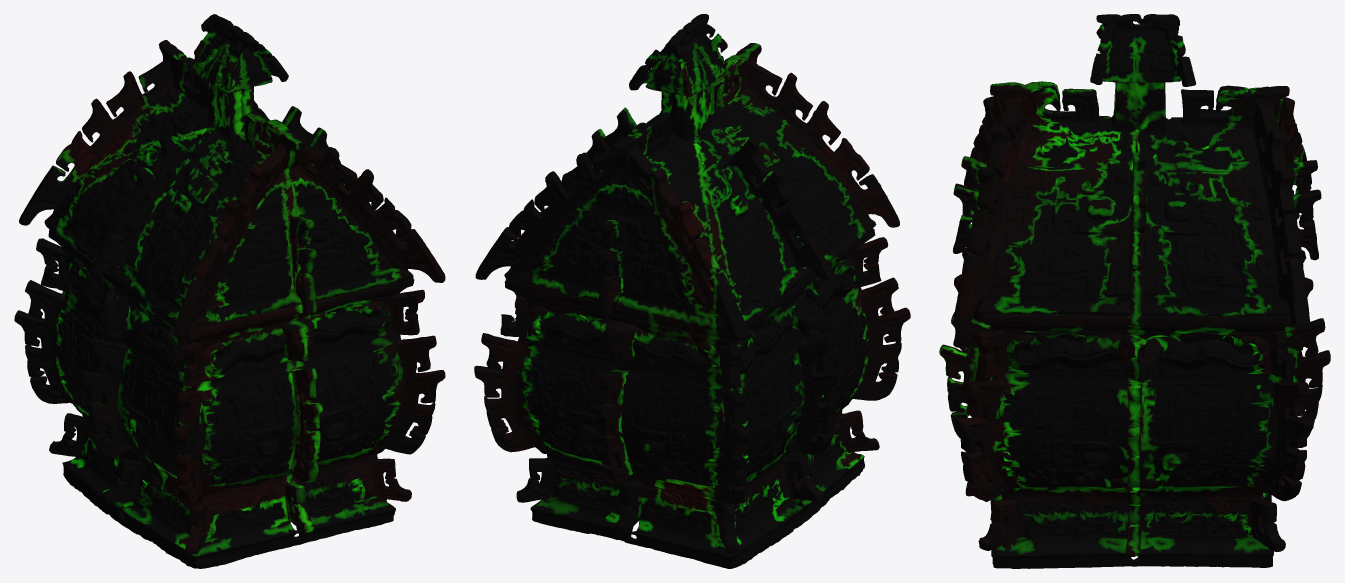
The picture shows the model from 3 angles, left to right: view 1: azimuth 30°, elevation 25°; view 2: azimuth 150°, elevation 25°; view 3: azimuth 270°, elevation 25°; orthographic projection. The views are drawn at different scales.
Parts seen in each view (by area): view 1: fangyi; view 2: fangyi; view 3: fangyi.
Part boxes in pixels (x1=…): fangyi: x1=14, y1=14, x2=445, y2=568; fangyi: x1=474, y1=14, x2=910, y2=568; fangyi: x1=939, y1=14, x2=1330, y2=568.
Size of the model in its own units: 0.1264 by 0.1918 by 0.1344.
Materials: 1 (1 with a texture image).
